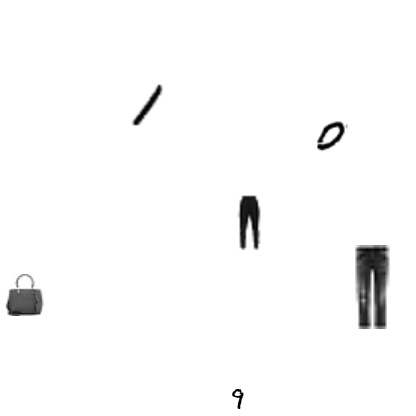0: (310, 114, 352, 156)
1: (120, 77, 176, 133)
9: (224, 383, 252, 411)
Bag: (3, 274, 45, 316)
Trouser: (329, 245, 413, 329), (220, 194, 276, 250)
